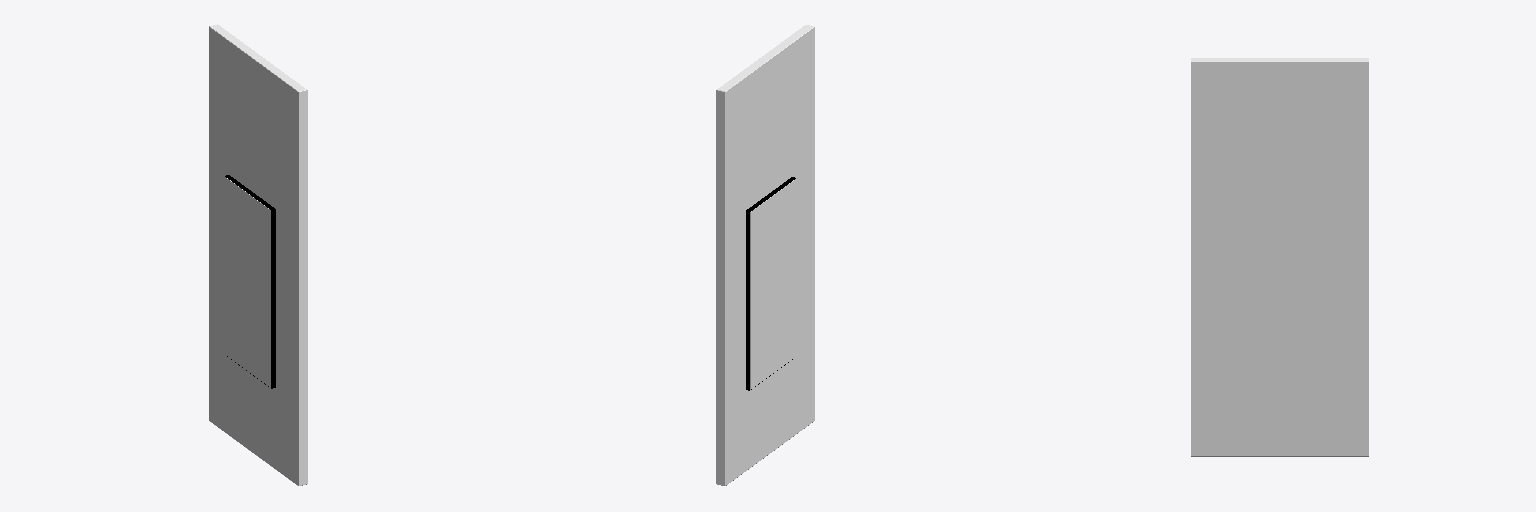
File: back-wall.obj
3 views of the same model, side by side, from view 1: azimuth 30°, elevation 25°; view 2: azimuth 150°, elevation 25°; view 3: azimuth 270°, elevation 25° (orthographic).
Size of the model in its own units: 0.228 by 6.33 by 2.6.